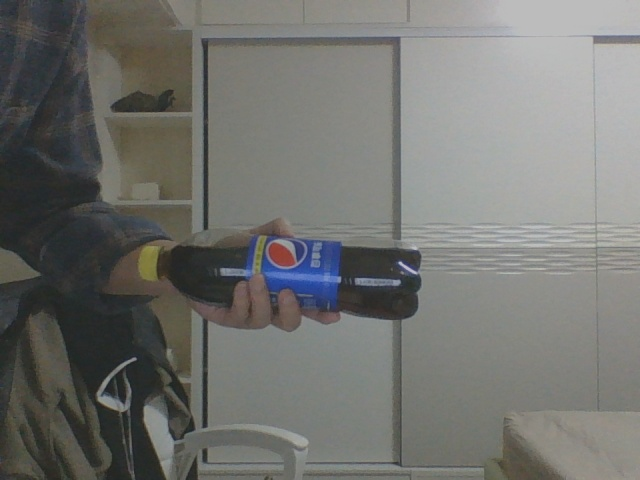Cola: (138, 228, 422, 320)
